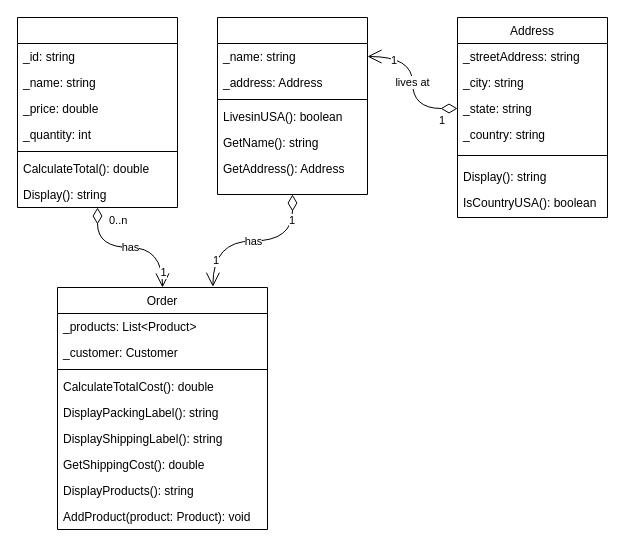
This 625x548 diagram has some shape labels left out. The shapes that lost their labels are listed below. From the top down, each one's box as (x1, y1, x2, y2) in pixels, then its label:
(16, 16, 178, 208): Product
(216, 16, 368, 194): Customer
